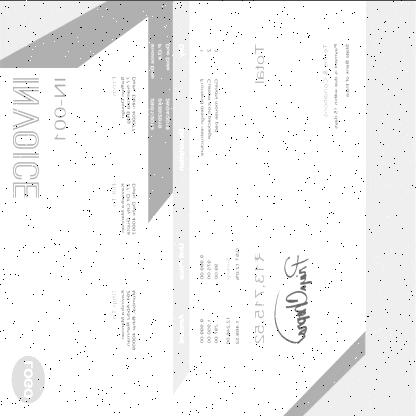Paragraph: (252, 40, 268, 346), (10, 74, 41, 200), (320, 40, 352, 130), (148, 41, 172, 131), (108, 286, 138, 352), (223, 244, 242, 346), (110, 73, 138, 132), (110, 180, 138, 236), (51, 75, 67, 141)
Table: (176, 40, 221, 346)
